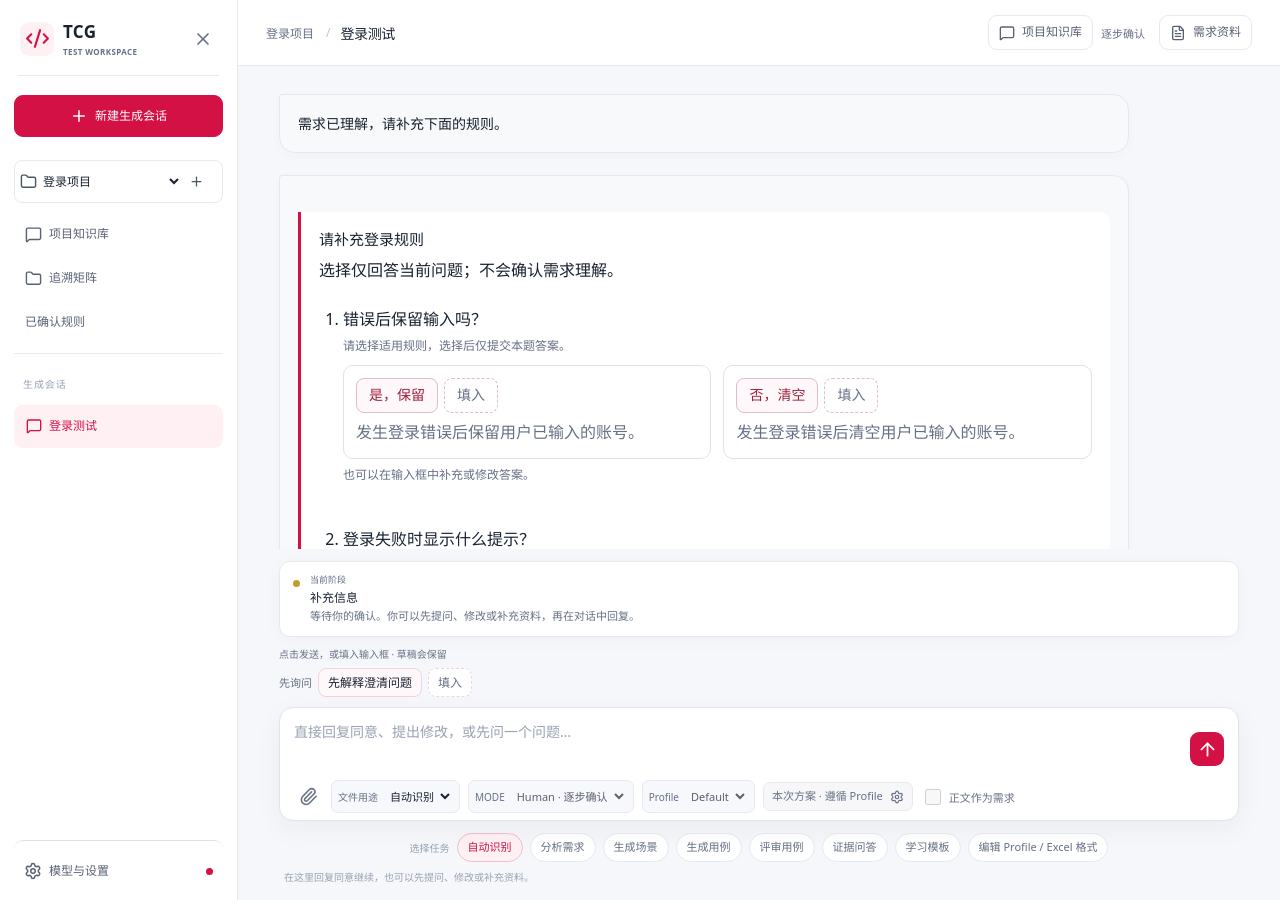
Test: the option next to a clarification submits its full answer to that prompt and preserves an unrelated draft
Type "我还有一个关于权限的问题" into the text box named "聊天输入" at (737, 744), box [294,720,1180,768]
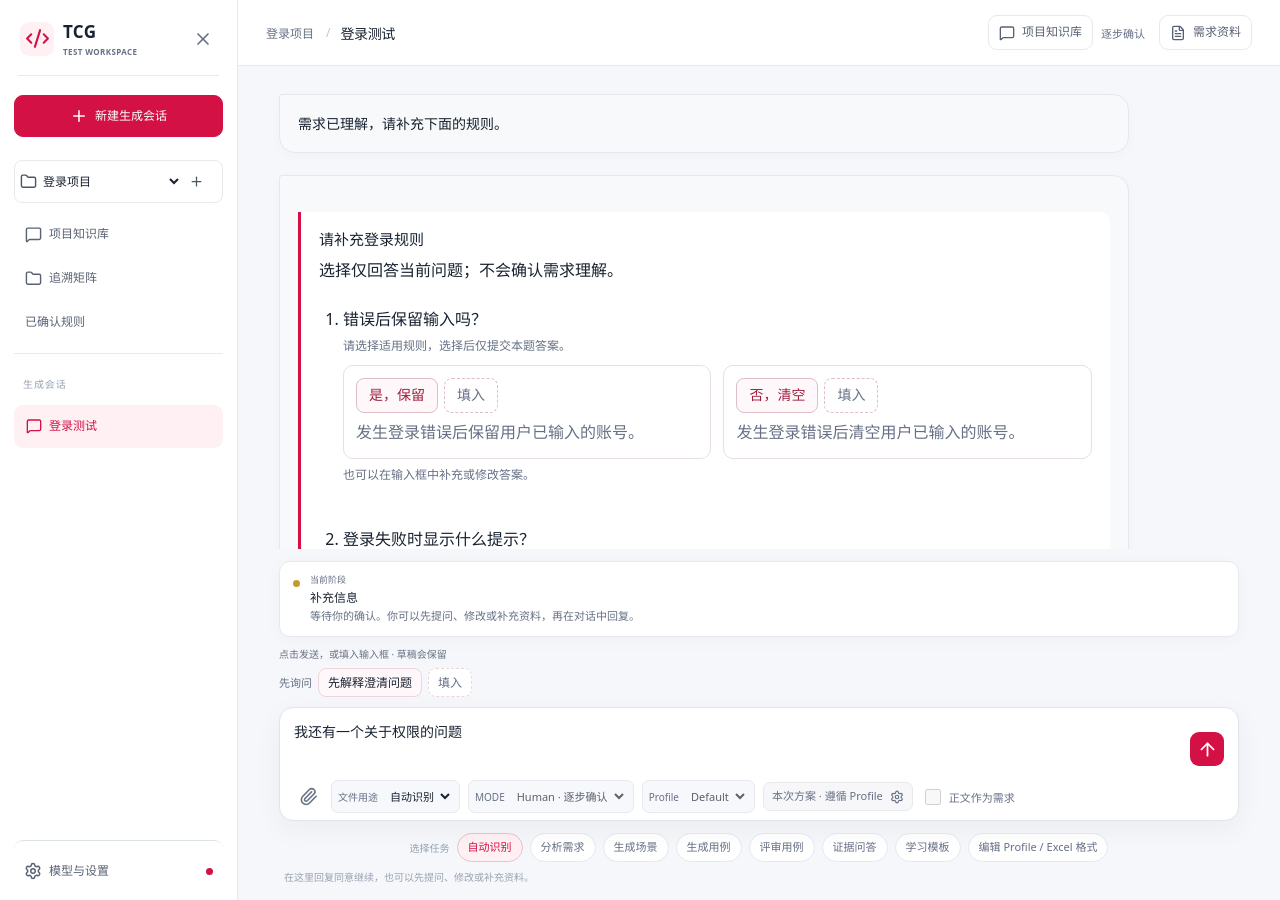
Check: the element named "Q1 错误后保留输入吗？" is shown, box [298,212,1110,549]
Click the button "是，保留" at (397, 396), box [356,378,438,413]
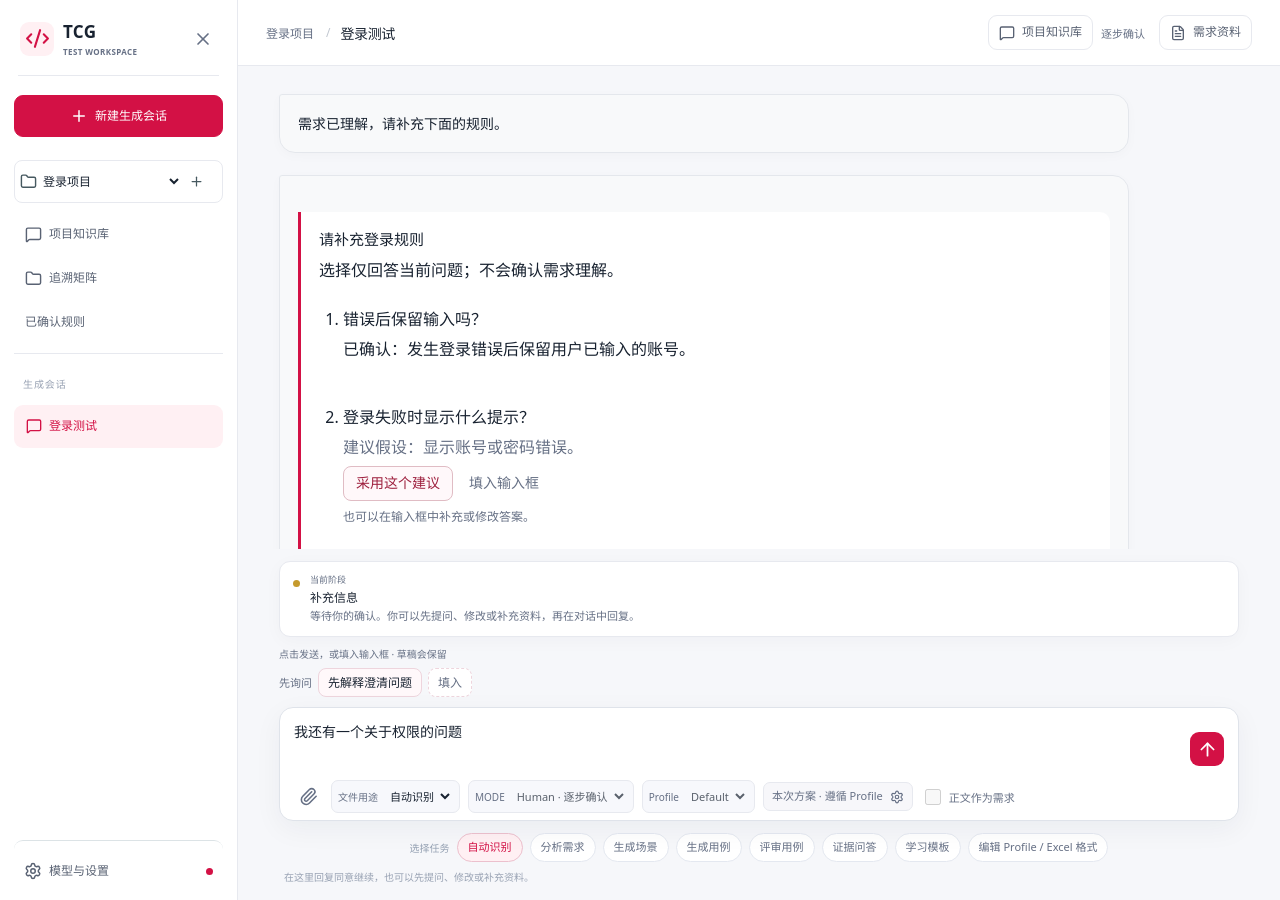
Check: the button "是，保留" is gone
Check: the button with aria-label "采用 Q2 建议：显示账号或密码错误。" is shown, box [343,466,453,501]
